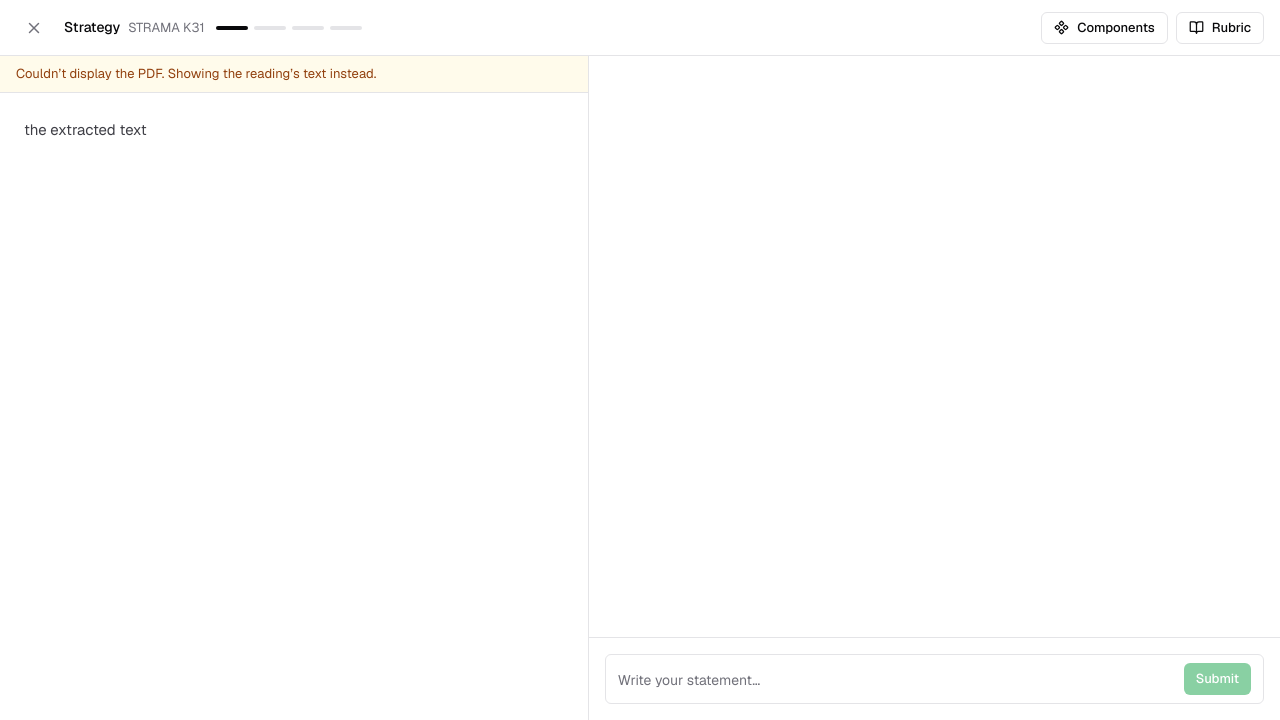
Scenario: leaving a session › stays put when the student backs out
The width and height of the screenshot is (1280, 720).
Click the button named "Leave session".
click(34, 28)  # box x1=16 y1=10 x2=52 y2=46
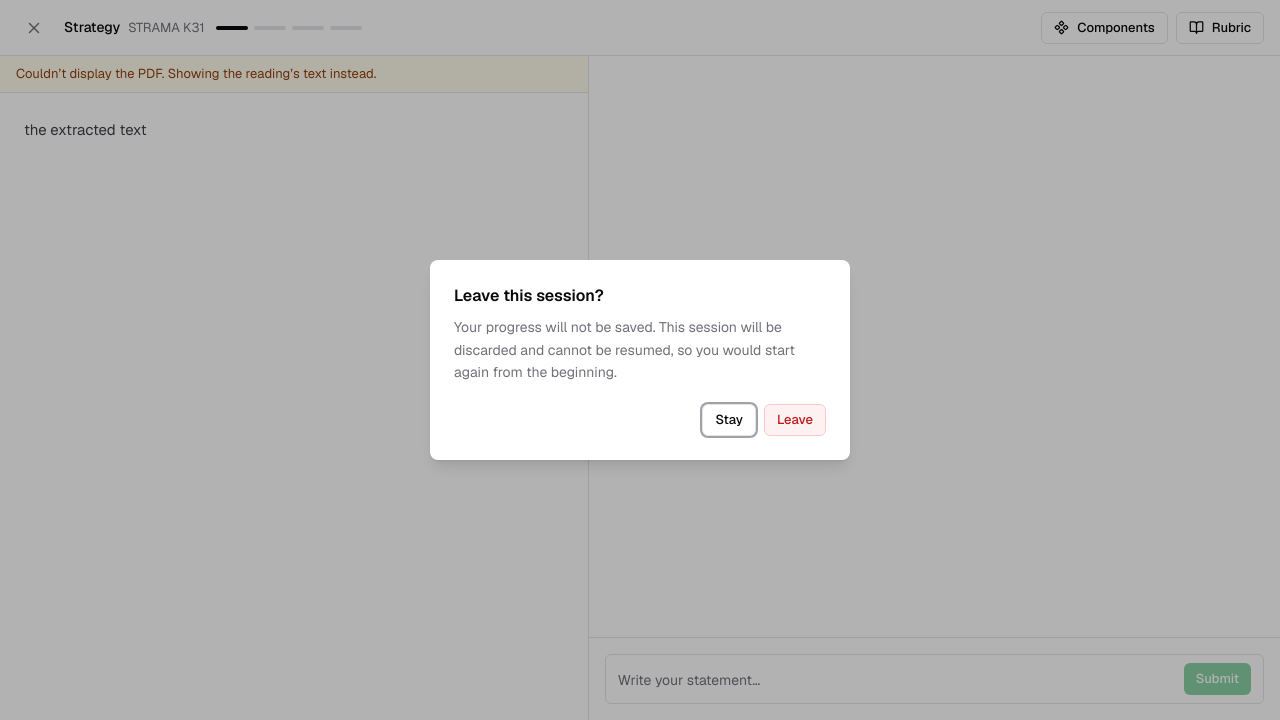
Click the button "Stay".
click(729, 420)  # box x1=702 y1=404 x2=756 y2=436
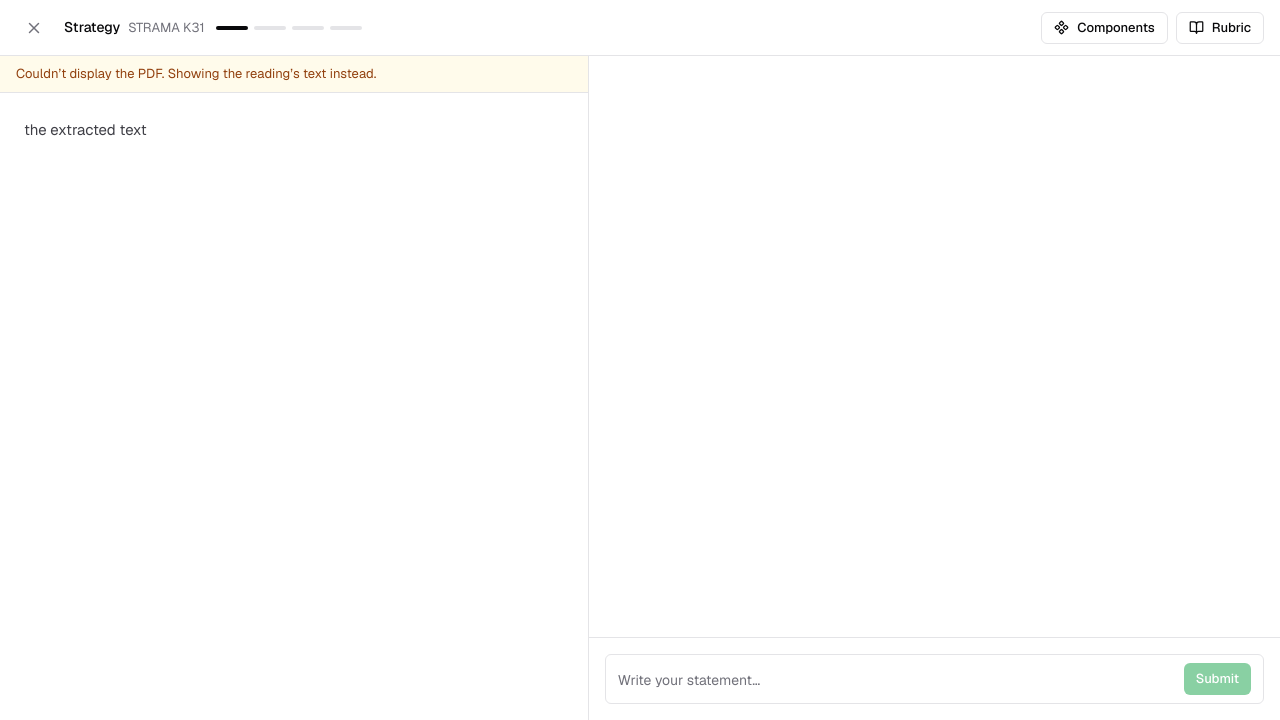
expect the dialog is gone: met
